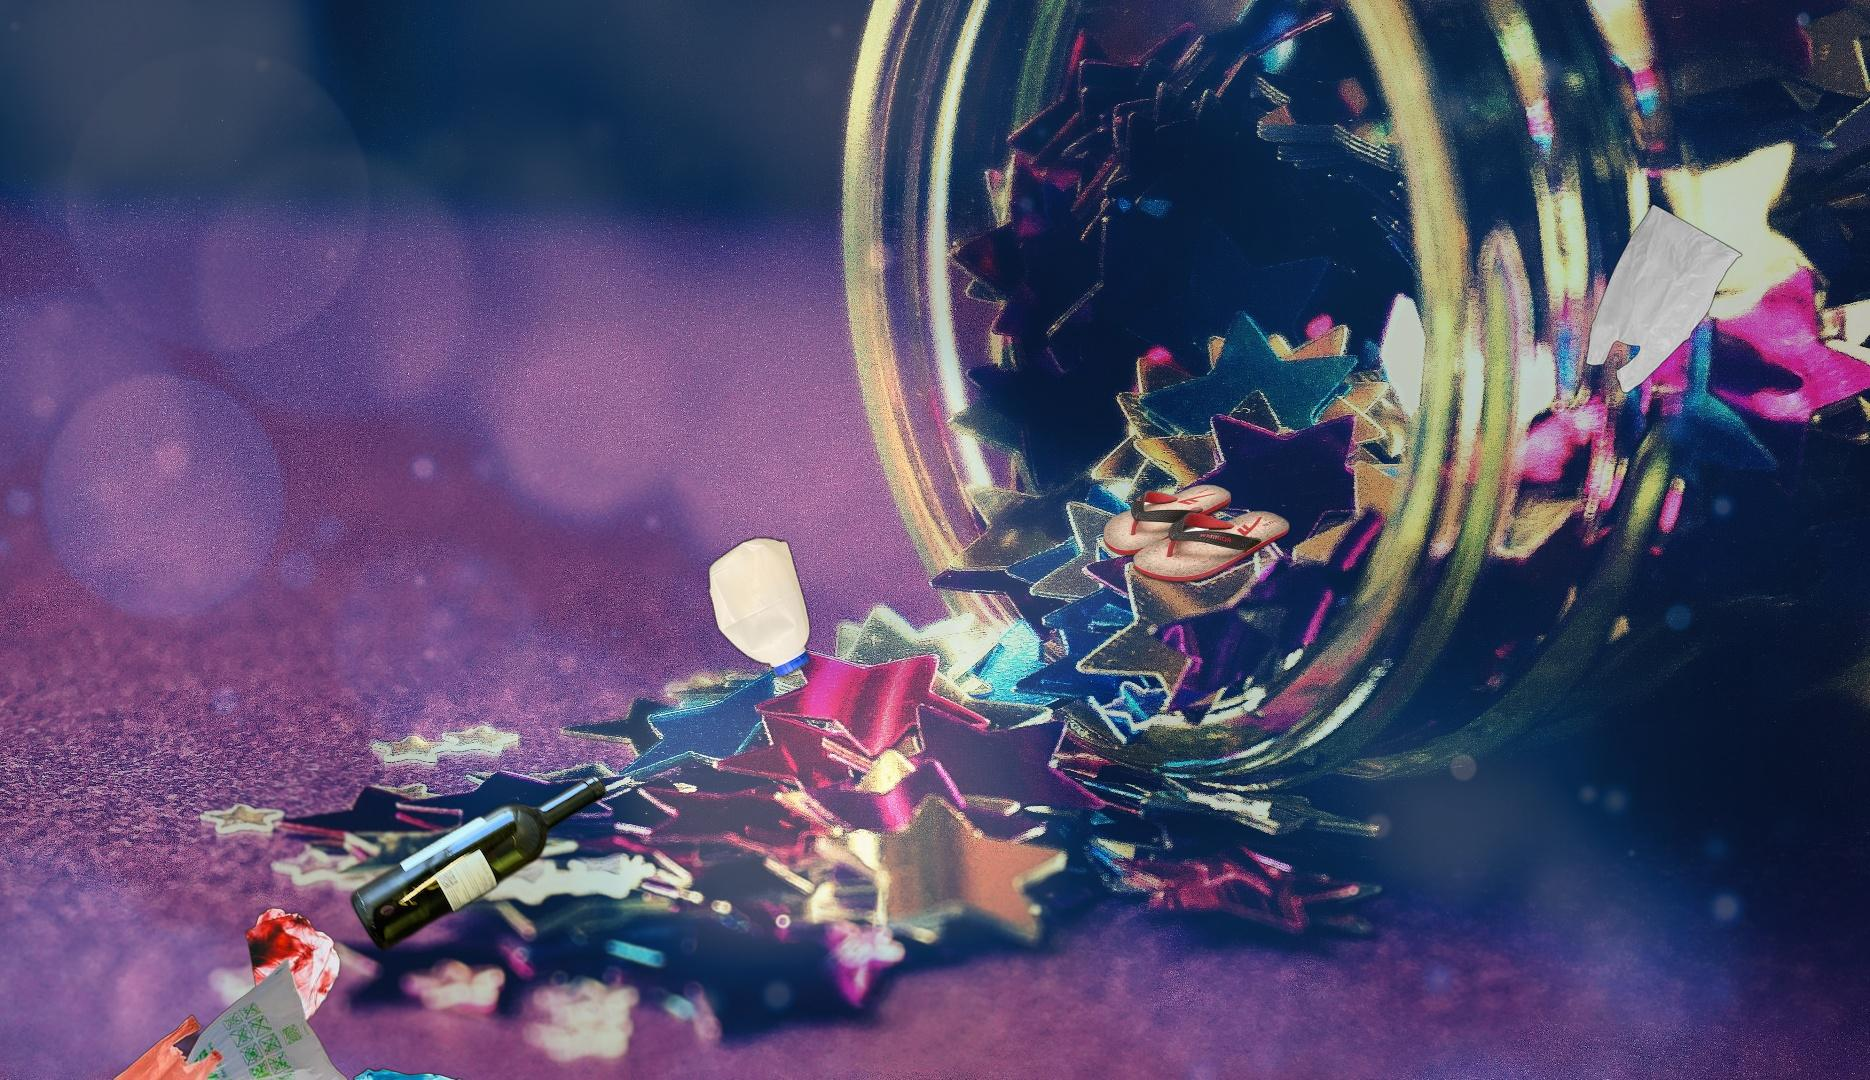glass: (346, 770, 610, 957)
plastic-bag: (85, 906, 356, 1080), (1583, 201, 1745, 396), (256, 1018, 494, 1080)
plastic-bottles: (706, 531, 816, 685)
shoes: (1100, 482, 1293, 588)
